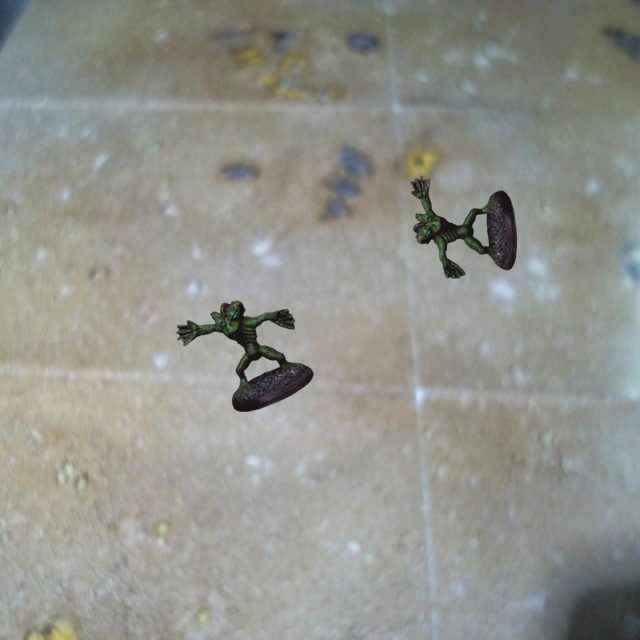pieza_juego: (176, 300, 313, 411), (411, 176, 516, 278)
